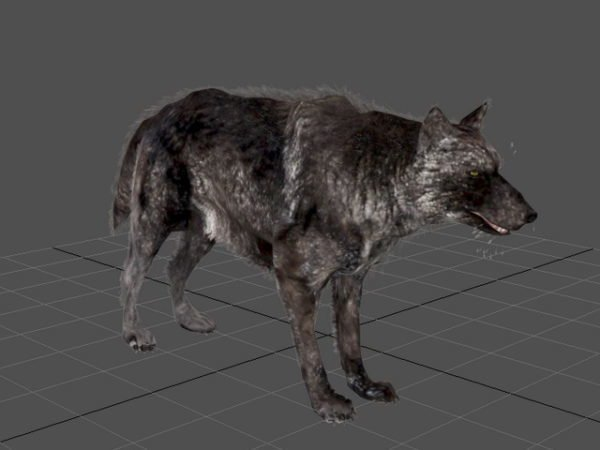Lobo: (98, 72, 556, 418)
